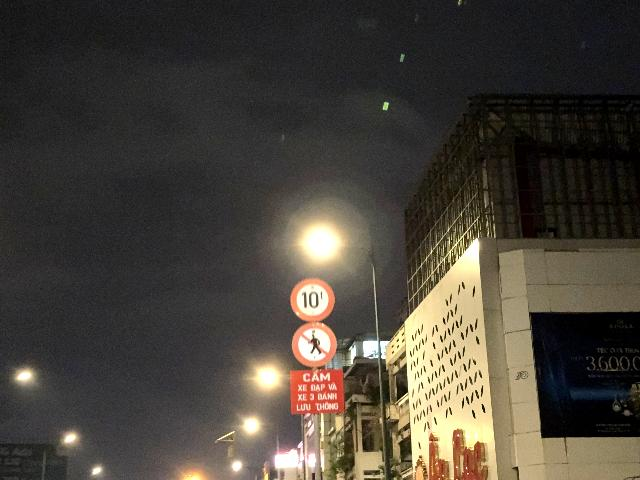cam-nguoi-di-bo: (292, 322, 337, 367)
han-che-trong-luong-xe: (290, 277, 335, 322)
